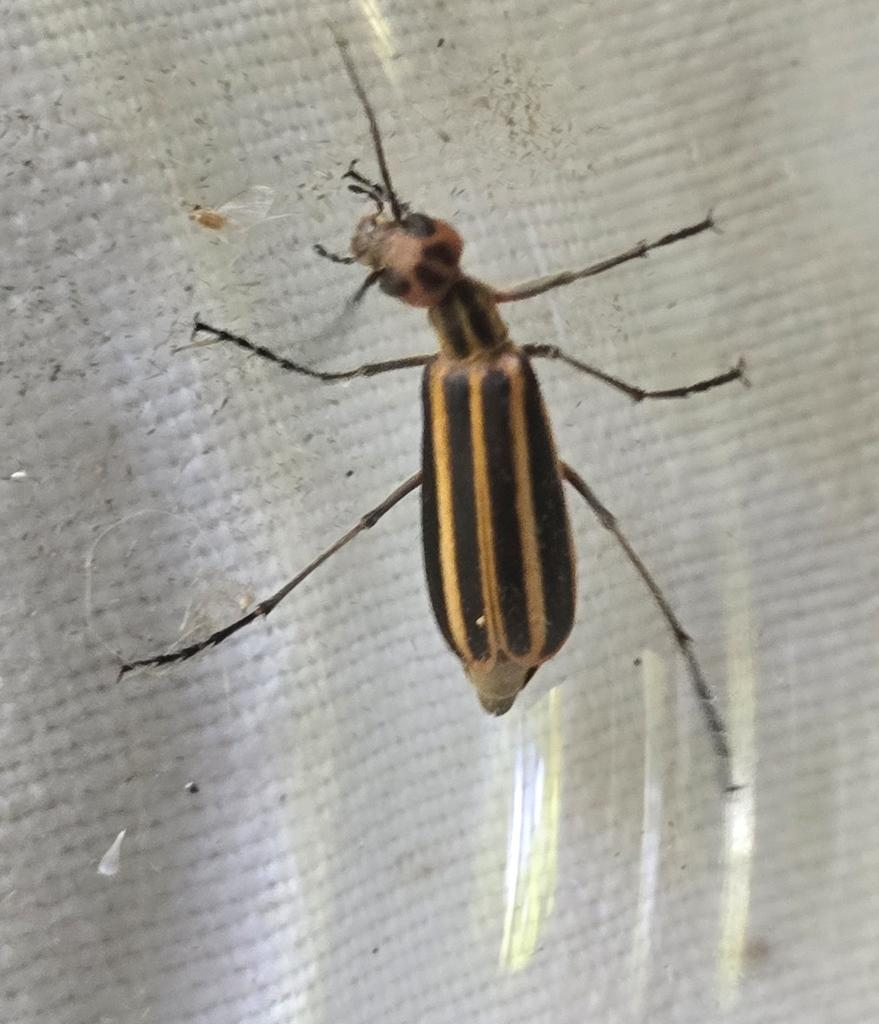blister_beetle: (53, 0, 879, 902)
